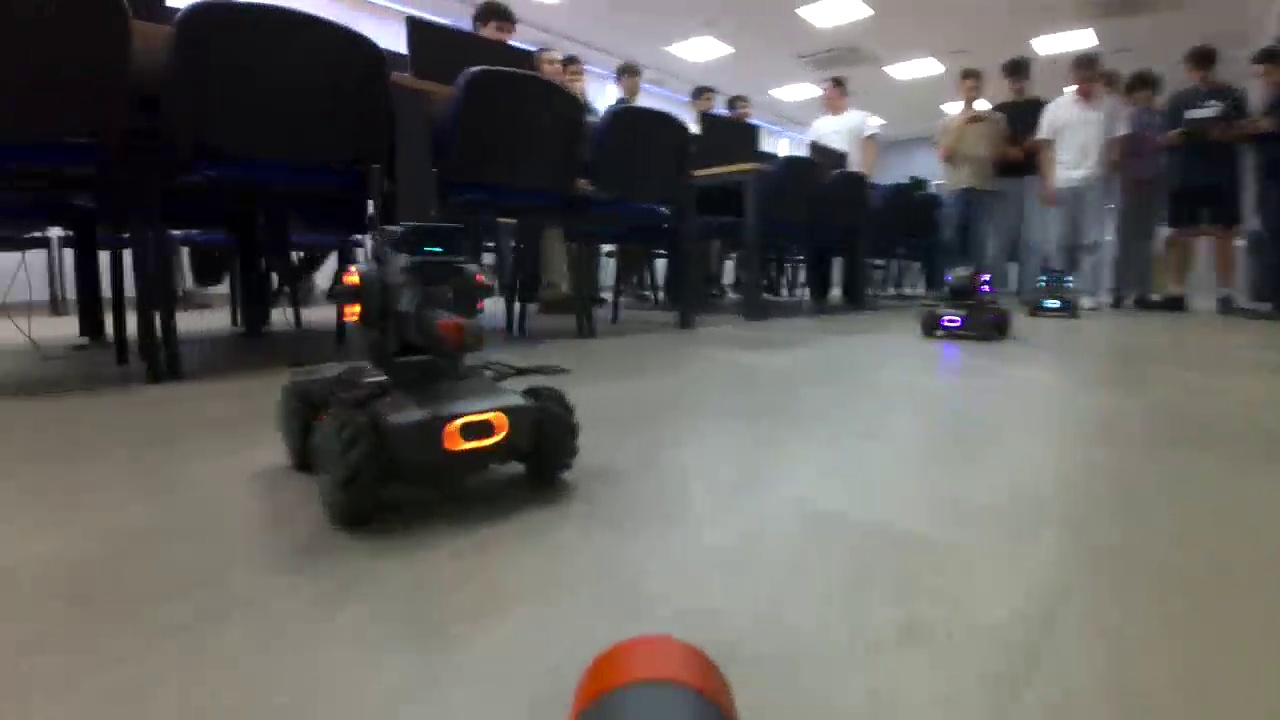robot: (273, 220, 582, 537), (921, 264, 1012, 343), (1030, 268, 1080, 318)
